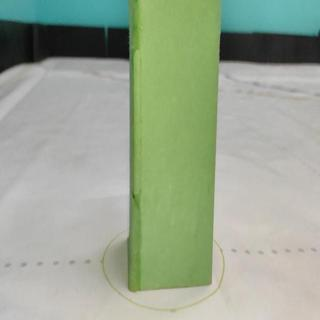greenbox: (127, 0, 222, 290)
